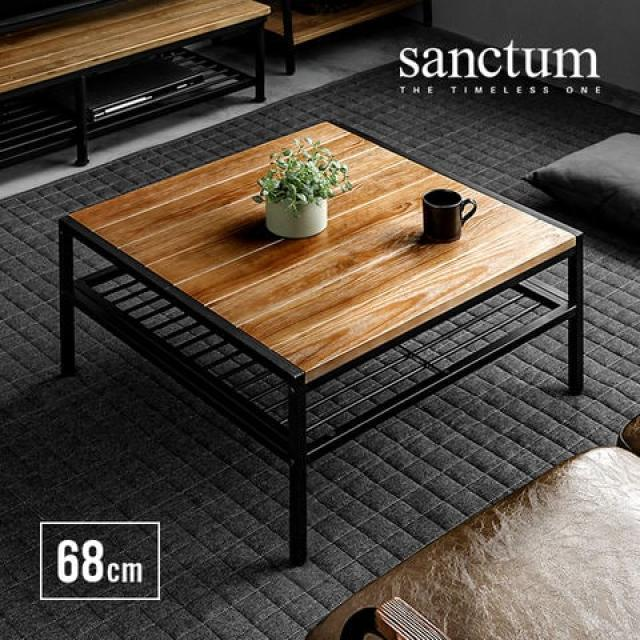vintage desk: (57, 120, 588, 450)
